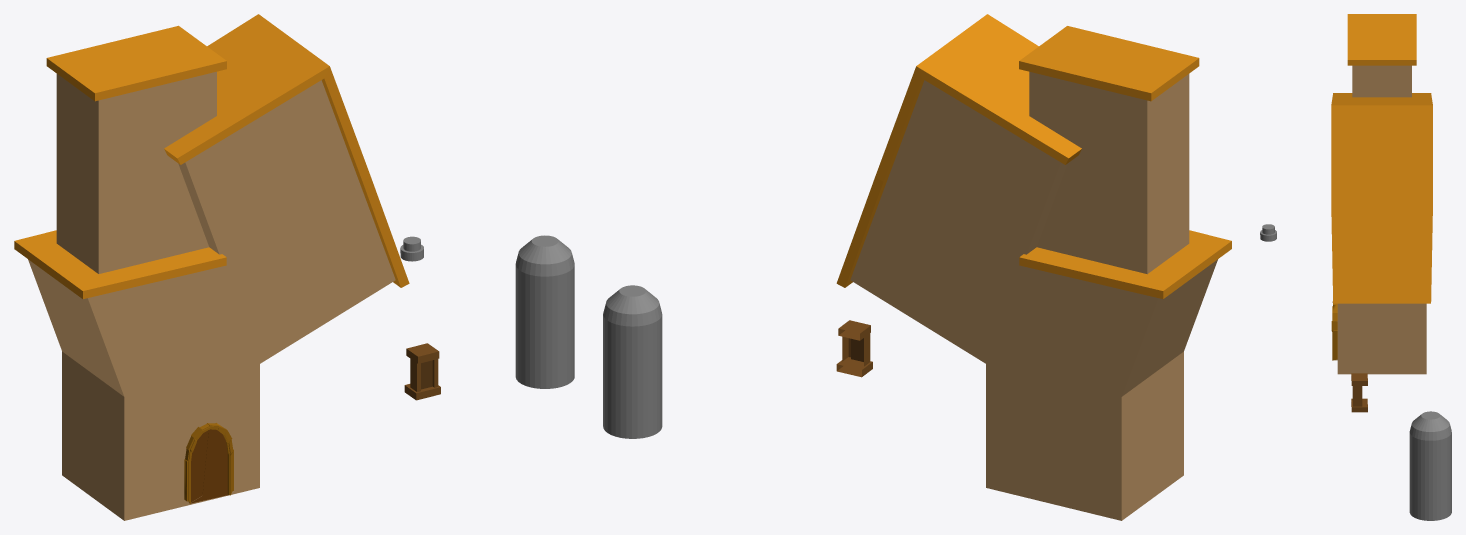
File: House_4.fbx
3 renders of one model, left to right at view 1: azimuth 30°, elevation 25°; view 2: azimuth 150°, elevation 25°; view 3: azimuth 270°, elevation 25°, orthographic. The views are drawn at different scales.
Visible parts, largest first — view 1: Cube, Cylinder.002, Cube.466, Cube.019; view 2: Cube, Cylinder.002, Cube.019; view 3: Cube, Cylinder.002, Cube.019, Cube.466, Cylinder.007.
Part boxes in pixels (x1,y1,x2,y2): Cube: (14,14,409,520); Cylinder.002: (515,235,574,388); Cube.466: (184,423,233,503); Cube.019: (404,343,440,400); Cube: (836,14,1231,520); Cylinder.002: (603,285,662,438); Cube.019: (836,320,872,377); Cube: (1331,14,1432,374); Cylinder.002: (1409,411,1451,520); Cube.019: (1351,373,1367,412); Cube.466: (1331,301,1337,360); Cylinder.007: (1260,224,1276,241).
Bounding box in the file's own units: 2170 × 1677 × 908.
